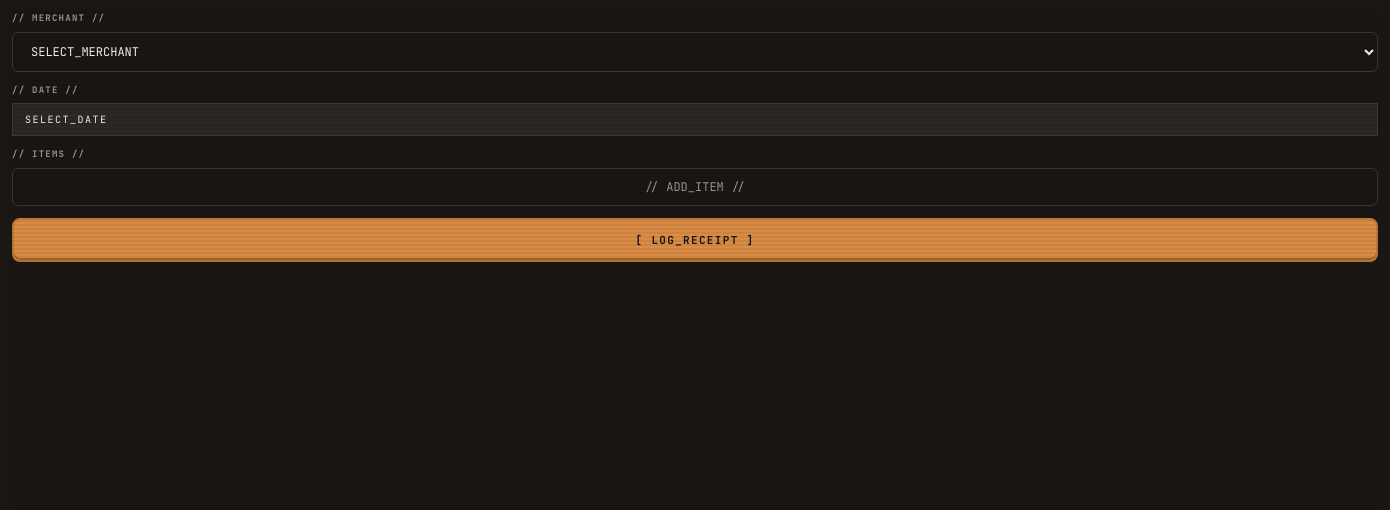
Test case: Item management › adds an item row when an item is selected from the selector
Click the button "// ADD_ITEM //".
click(695, 186)  # box [12, 168, 1378, 206]
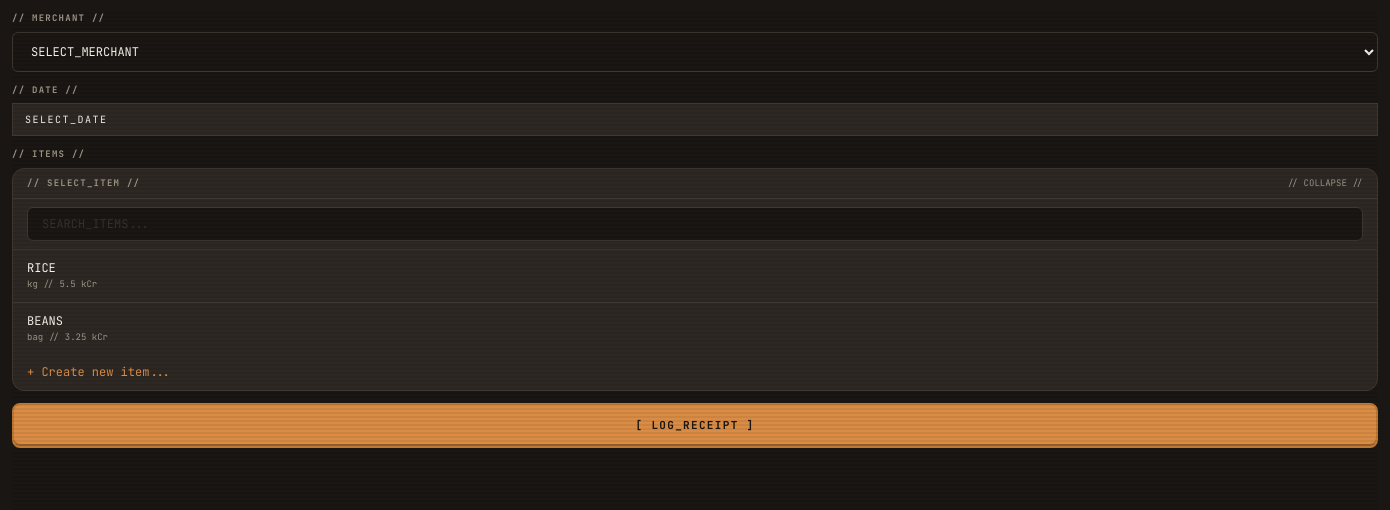
Click the text "RICE".
click(41, 268)  # box [27, 260, 56, 276]
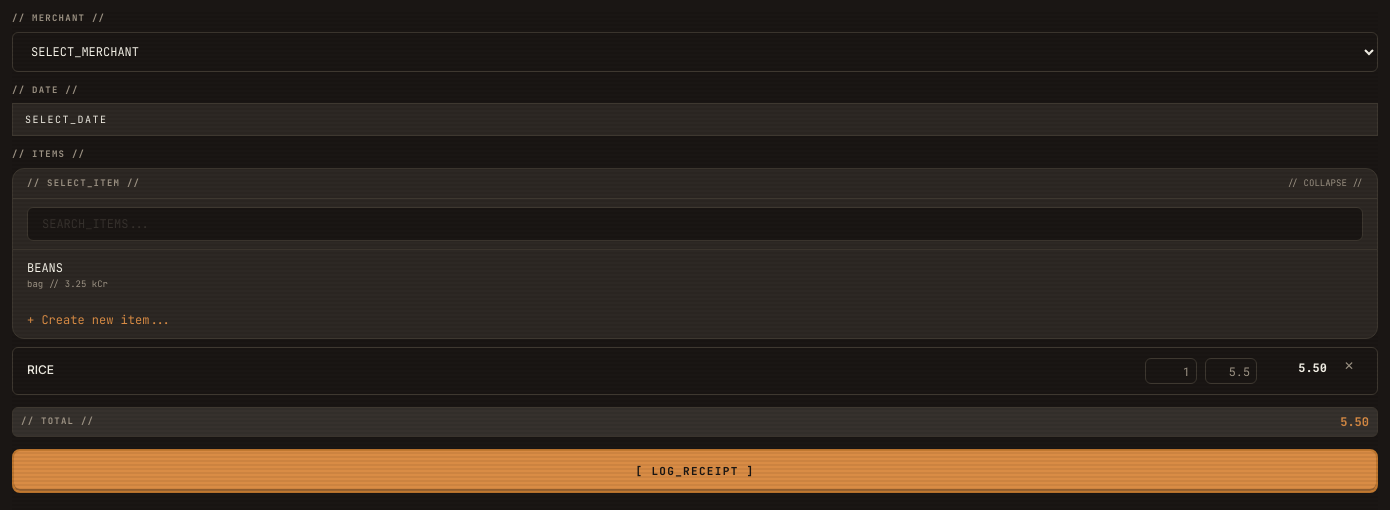
Expected: the number field named "QTY" holds "1", [1145, 358, 1197, 384]
Expected: the number of number fields named "QTY" is 1, [1145, 358, 1197, 384]
